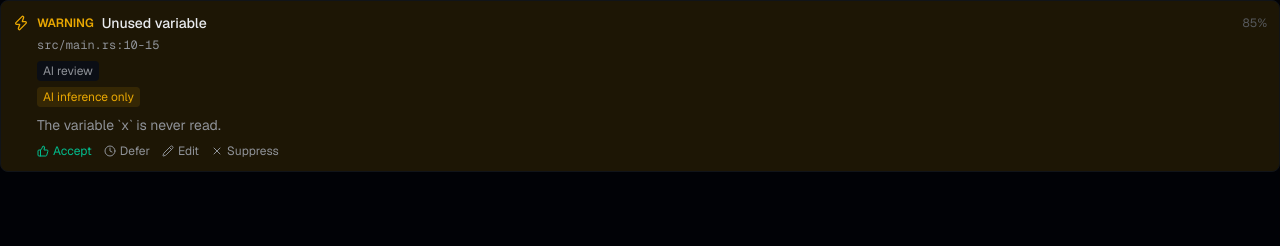
Test case: FindingCard › shows edit textarea when Edit is clicked
Step 1. Click the button "Edit" → (181, 151), box [162, 143, 199, 159]
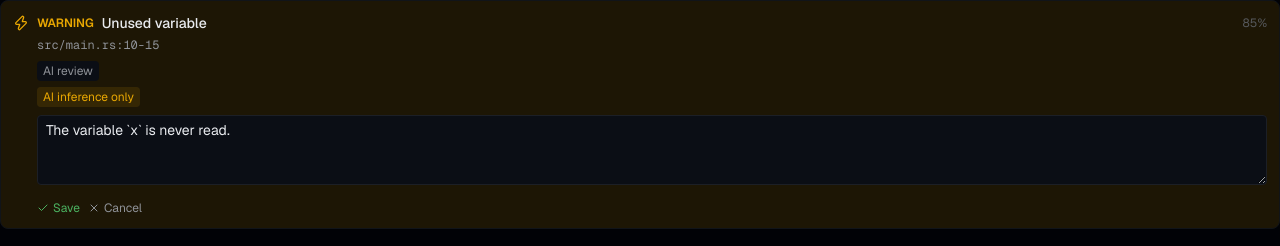
Expected: the text box is shown, [37, 115, 1267, 185]
